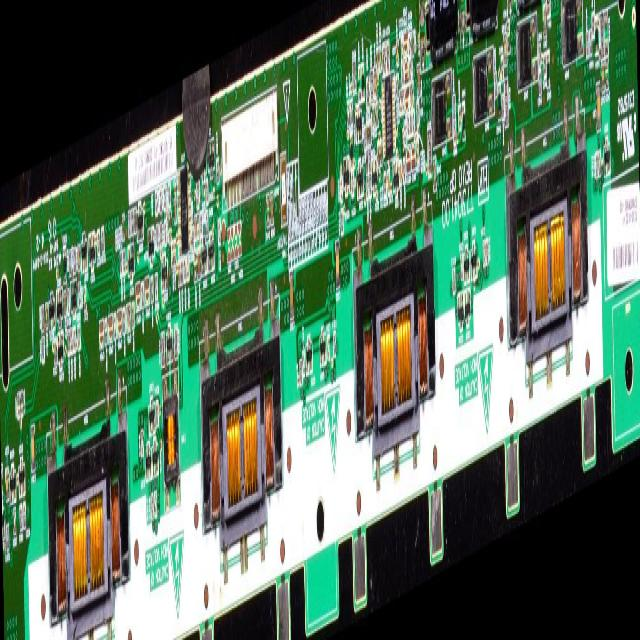Capacitor: (288, 268, 294, 329), (334, 236, 340, 290), (136, 276, 142, 327), (30, 418, 35, 478), (144, 270, 150, 316), (117, 302, 123, 347), (108, 308, 114, 352), (596, 78, 601, 130), (126, 297, 131, 345), (99, 315, 104, 361), (265, 190, 270, 233), (83, 281, 88, 322), (416, 57, 421, 96), (459, 247, 464, 286), (120, 208, 126, 240), (503, 32, 508, 68), (602, 57, 606, 101), (411, 137, 416, 172), (326, 330, 331, 364), (270, 188, 274, 230), (373, 62, 377, 101), (346, 95, 350, 134), (406, 142, 411, 172), (5, 466, 9, 503), (140, 427, 144, 464), (402, 117, 407, 146), (544, 0, 548, 36), (302, 346, 306, 381), (154, 485, 158, 519), (433, 157, 437, 190), (403, 25, 408, 51), (396, 68, 400, 100), (12, 505, 16, 537), (378, 42, 382, 74), (507, 14, 510, 55), (194, 243, 197, 284), (133, 204, 137, 234), (396, 36, 400, 66), (606, 51, 609, 90), (405, 84, 409, 112), (404, 55, 408, 82), (197, 245, 200, 281), (387, 165, 390, 201), (380, 132, 383, 167), (399, 155, 402, 190), (45, 297, 48, 331), (483, 237, 486, 270), (194, 210, 197, 242), (177, 254, 180, 286), (67, 326, 70, 358), (416, 137, 419, 169), (598, 148, 601, 180), (376, 42, 379, 74), (411, 25, 414, 57), (377, 135, 380, 165), (399, 87, 402, 116), (402, 85, 405, 114), (372, 103, 375, 132), (77, 242, 80, 270), (375, 101, 378, 128), (401, 36, 404, 62), (64, 286, 66, 322), (174, 235, 176, 270), (54, 332, 56, 367), (2, 471, 4, 501), (366, 119, 368, 146), (369, 115, 371, 138), (366, 150, 368, 172)
Connector: (220, 78, 279, 210)
IC: (176, 142, 192, 252), (381, 71, 396, 162)
Resistor Network: (427, 117, 432, 178), (160, 325, 166, 368), (504, 76, 509, 125), (350, 151, 355, 199), (351, 55, 357, 94), (332, 320, 337, 364), (349, 92, 354, 134), (173, 320, 178, 361), (604, 9, 609, 48), (150, 270, 154, 315), (493, 66, 498, 101), (543, 46, 547, 89), (370, 66, 374, 108), (154, 267, 158, 309), (416, 100, 421, 132), (366, 71, 370, 110), (122, 303, 126, 342), (452, 258, 456, 297), (386, 34, 390, 73), (458, 100, 462, 138), (382, 39, 386, 77), (486, 235, 490, 272), (150, 489, 154, 526), (104, 313, 108, 348), (538, 66, 542, 101), (299, 356, 303, 391), (96, 226, 100, 260), (122, 245, 126, 279), (500, 48, 504, 82), (217, 215, 221, 249), (453, 117, 457, 151), (155, 393, 159, 427), (168, 180, 172, 212), (101, 220, 105, 252), (155, 218, 159, 250), (40, 300, 44, 332), (452, 87, 456, 119), (41, 332, 45, 364), (77, 320, 81, 352), (585, 26, 589, 58), (383, 167, 387, 199), (20, 388, 24, 420), (19, 502, 23, 534), (127, 208, 131, 238), (68, 244, 72, 274), (196, 180, 200, 210), (590, 7, 594, 37), (16, 391, 20, 421), (6, 524, 10, 554), (154, 188, 158, 217), (187, 247, 190, 285), (114, 311, 117, 349), (217, 149, 220, 185), (132, 295, 135, 331), (180, 251, 183, 286), (403, 155, 406, 190), (408, 57, 412, 83), (401, 60, 405, 86), (159, 218, 162, 252), (73, 320, 76, 354), (23, 496, 26, 530), (131, 202, 134, 235), (119, 247, 122, 279), (406, 114, 410, 138), (70, 324, 73, 356), (164, 215, 167, 245), (171, 236, 174, 266), (538, 36, 541, 66), (408, 27, 411, 57), (73, 247, 76, 276), (163, 181, 166, 210), (546, 0, 551, 16), (142, 274, 144, 313), (412, 110, 415, 135), (368, 148, 371, 172), (184, 249, 186, 283), (502, 89, 504, 123), (200, 206, 202, 235), (590, 28, 592, 57), (596, 149, 598, 178), (206, 178, 208, 206), (206, 208, 208, 236), (364, 125, 366, 151), (410, 109, 412, 135), (366, 173, 368, 199), (369, 172, 371, 198)
Transistor: (88, 226, 97, 286), (80, 225, 89, 282), (456, 288, 465, 341), (162, 249, 170, 306), (17, 450, 26, 500), (136, 197, 144, 251), (57, 329, 65, 382), (318, 320, 326, 372), (48, 283, 56, 334), (356, 153, 364, 204), (200, 231, 208, 281), (306, 329, 314, 379), (207, 132, 215, 182), (128, 240, 135, 295), (342, 153, 350, 201), (603, 130, 611, 178), (355, 100, 363, 146), (70, 276, 78, 322), (56, 283, 64, 329), (208, 224, 215, 276), (147, 222, 155, 267), (165, 318, 173, 363), (9, 459, 17, 503), (470, 240, 478, 284), (148, 388, 155, 436), (152, 430, 159, 478), (145, 436, 152, 484), (393, 156, 399, 208), (372, 156, 378, 206), (465, 286, 471, 336), (463, 245, 470, 283), (1, 500, 6, 551), (62, 242, 67, 282)
